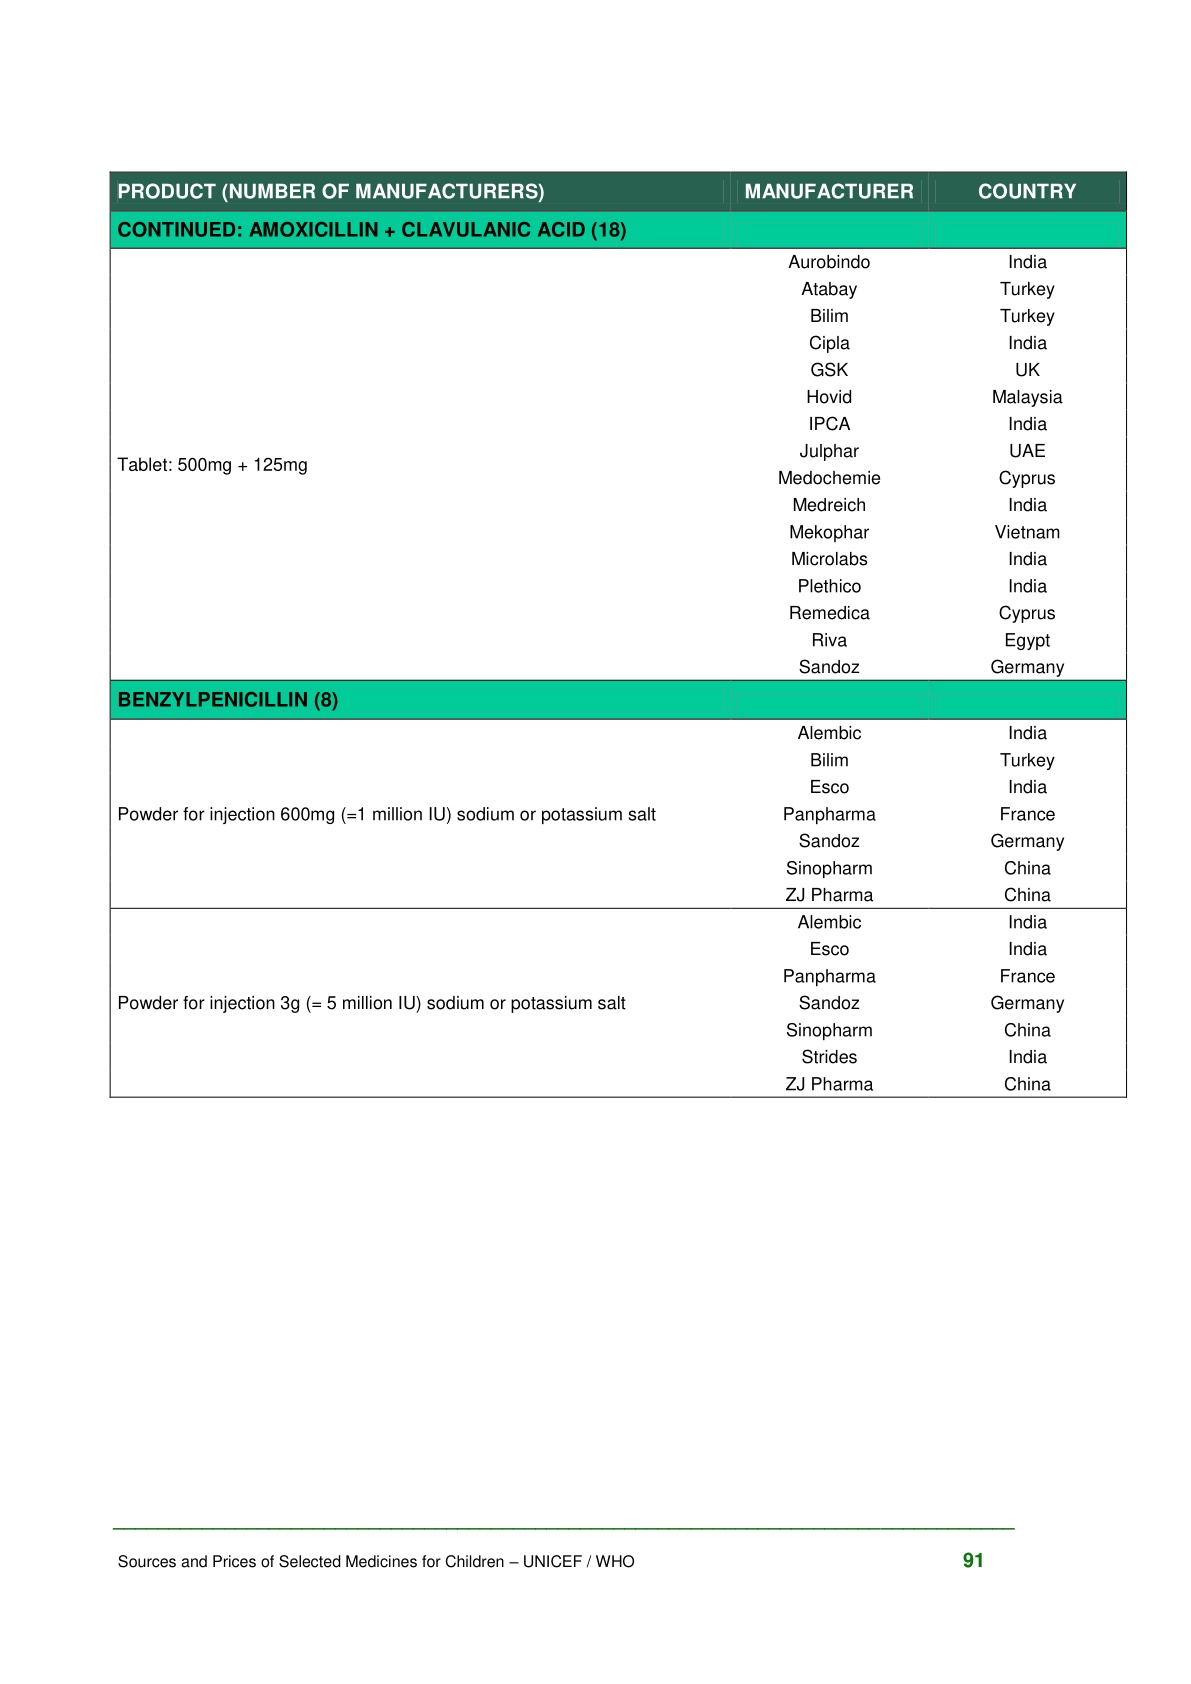partial_lined_merged_cells: (108, 170, 1130, 1100)
